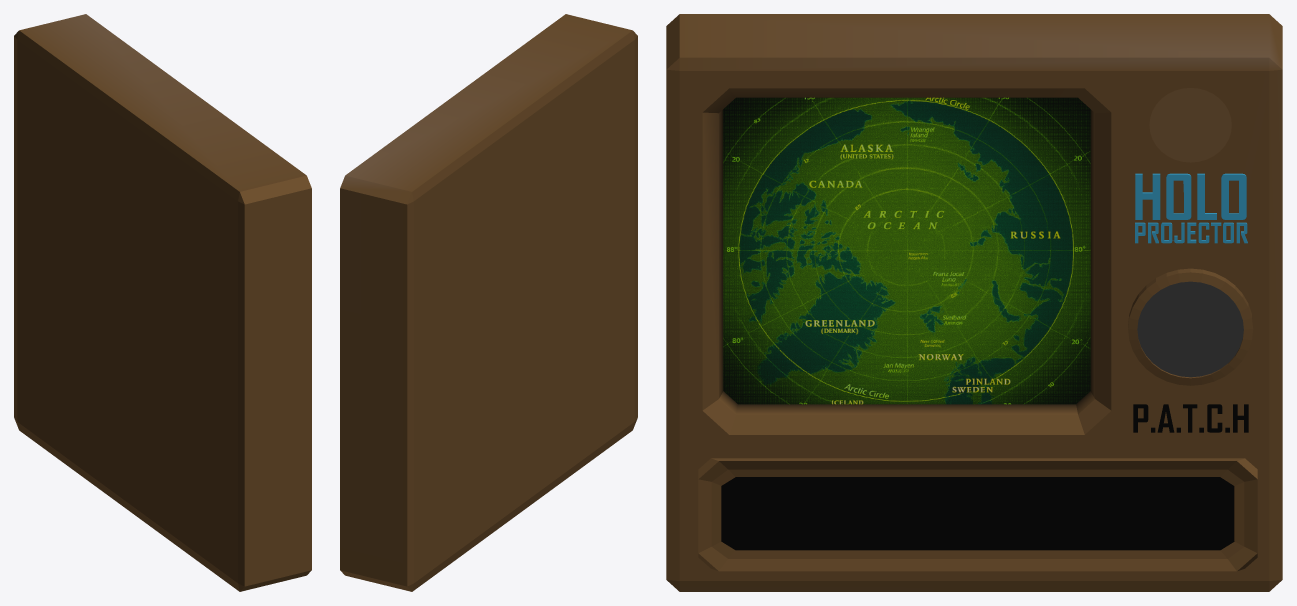
Rendered from 250614-PATCH-MartinSketch.glb.
The picture shows the model from 3 angles, left to right: view 1: azimuth 30°, elevation 25°; view 2: azimuth 150°, elevation 25°; view 3: azimuth 270°, elevation 25°; orthographic projection. The views are drawn at different scales.
Parts seen in each view (by area): view 1: PATCH; view 2: PATCH; view 3: PATCH.
Part boxes in pixels (x1,y1,x2,y2): PATCH: [14, 14, 311, 591]; PATCH: [340, 14, 637, 591]; PATCH: [666, 14, 1282, 591].
Bounding box in the file's own units: 0.3141 × 1.54 × 1.61.
2 materials, 1 textured.
